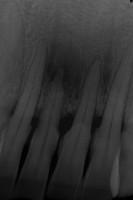Furcation Involvement: (43, 35, 97, 102), (100, 44, 117, 96)
